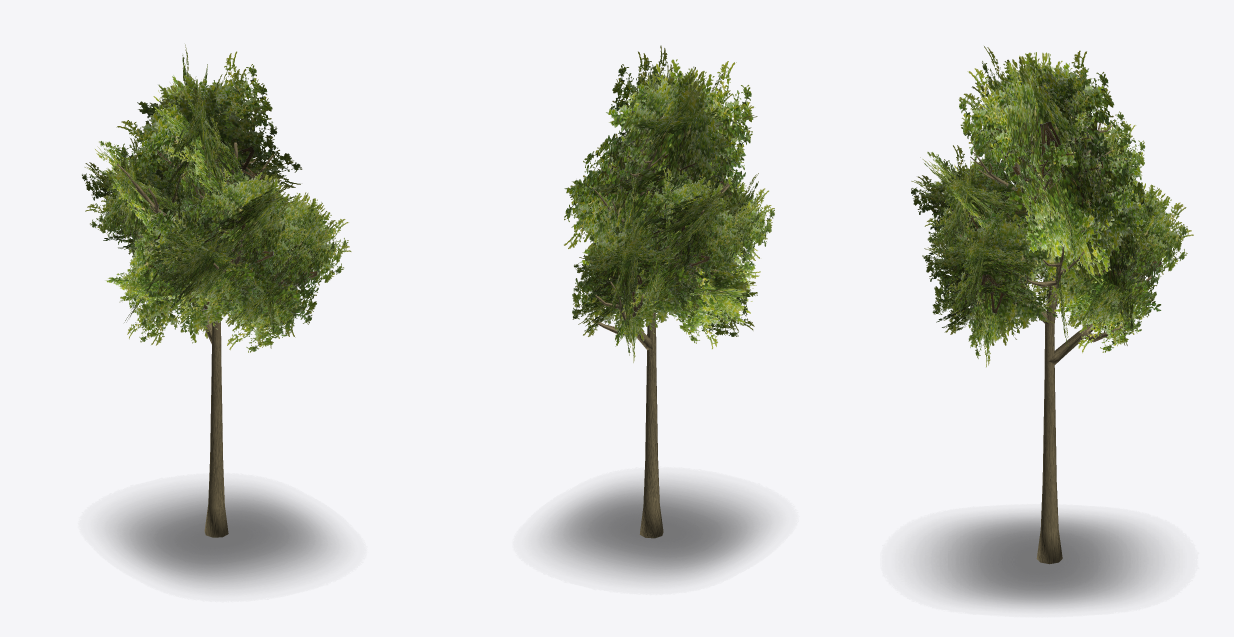
3 views of the same model, side by side, from view 1: azimuth 30°, elevation 25°; view 2: azimuth 150°, elevation 25°; view 3: azimuth 270°, elevation 25° (orthographic). The views are drawn at different scales.
Parts seen in each view (by area): view 1: drzewko 2, imageedit_1_6226787222; view 2: drzewko 2, imageedit_1_6226787222; view 3: drzewko 2, imageedit_1_6226787222.
Part boxes in pixels (<box>): drzewko 2: <box>82,44,351,537</box>; imageedit_1_6226787222: <box>108,487,336,587</box>; drzewko 2: <box>564,45,774,538</box>; imageedit_1_6226787222: <box>542,481,768,580</box>; drzewko 2: <box>911,46,1193,564</box>; imageedit_1_6226787222: <box>918,514,1160,607</box>.
Size of the model in its own units: 2.67 by 5.17 by 2.97.
3 materials, 3 textured.
